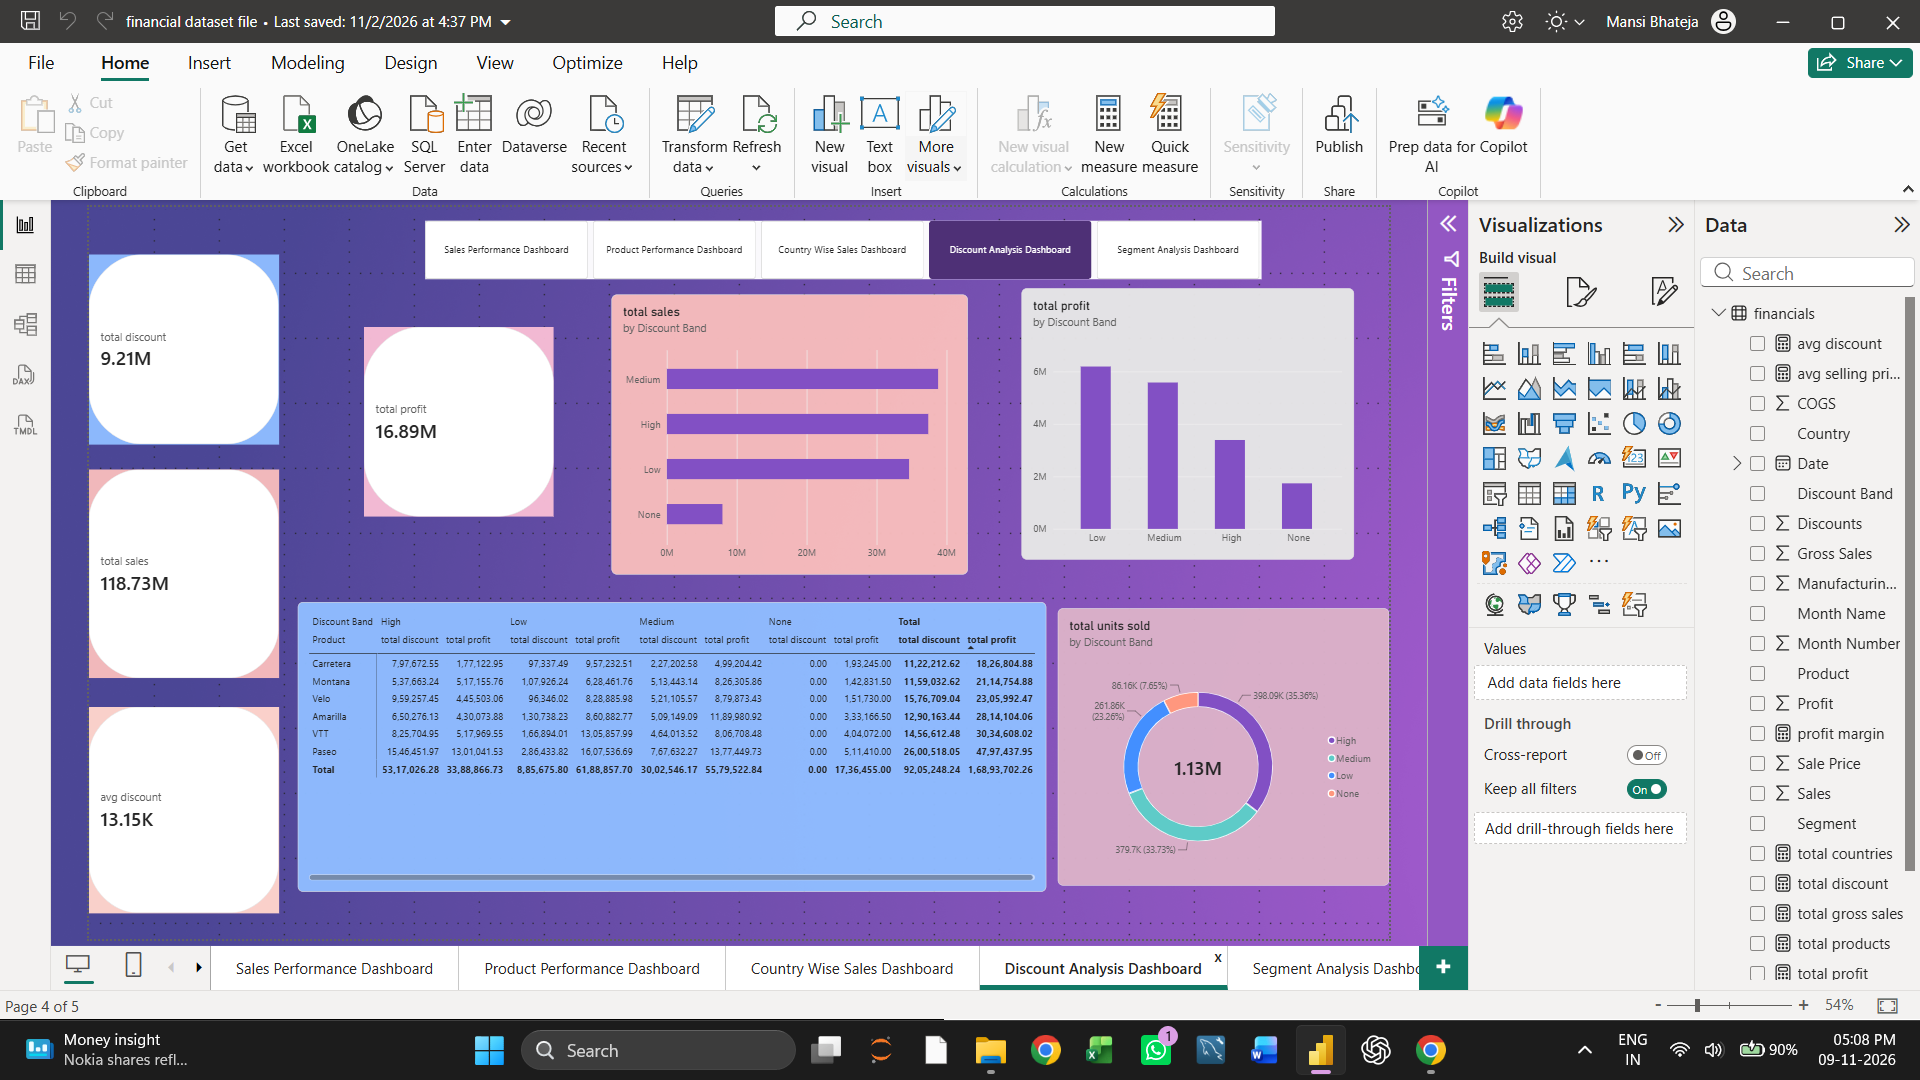

Layout of this report page (visuals, bound fields, positions):
{"tool":"powerbi","page":{"name":"Discount Analysis Dashboard","canvas":[1920,1080],"ordinal":3},"visuals":[{"type":"cardVisual","fields":{"Data":["financials.total profit"]},"box":[406.2,177.2,280,280],"z":0},{"type":"cardVisual","fields":{"Data":["financials.total discount"]},"box":[0,70.2,280.6,280.6],"z":1},{"type":"cardVisual","fields":{"Data":["financials.avg discount"]},"box":[0,738.5,280.6,304.6],"z":2},{"type":"cardVisual","fields":{"Data":["financials.total sales"]},"box":[0,387.7,280.6,308.3],"z":3},{"type":"columnChart","fields":{"Category":["financials.Discount Band"],"Y":["financials.total profit"]},"box":[1377.2,120,491.1,400.6],"z":4},{"type":"barChart","fields":{"Category":["financials.Discount Band"],"Y":["financials.total sales"]},"box":[771.7,129.2,526.2,413.5],"z":5},{"type":"donutChart","fields":{"Category":["financials.Discount Band"],"Y":["financials.total units sold"]},"box":[1430.8,592.6,489.2,409.8],"z":6},{"type":"pivotTable","fields":{"Columns":["financials.Discount Band"],"Rows":["financials.Product"],"Values":["financials.total discount","financials.total profit"]},"box":[308.3,583.4,1105.8,428.3],"z":7},{"type":"pageNavigator","box":[496.6,20.3,1235.1,86.8],"z":8}]}

Visuals, with their boxes on the page's 1920x1080 design canvas (x1, y1, x2, y2). These are canvas units, not pixel positions in the 1920x1080 screenshot, which may show the page scaled, cropped or inside an application window:
cardVisual - financials.total profit: box=[406, 177, 686, 457]
cardVisual - financials.total discount: box=[0, 70, 281, 351]
cardVisual - financials.avg discount: box=[0, 738, 281, 1043]
cardVisual - financials.total sales: box=[0, 388, 281, 696]
columnChart - financials.Discount Band x financials.total profit: box=[1377, 120, 1868, 521]
barChart - financials.Discount Band x financials.total sales: box=[772, 129, 1298, 543]
donutChart - financials.Discount Band x financials.total units sold: box=[1431, 593, 1920, 1002]
pivotTable - financials.Discount Band x financials.Product: box=[308, 583, 1414, 1012]
pageNavigator: box=[497, 20, 1732, 107]
